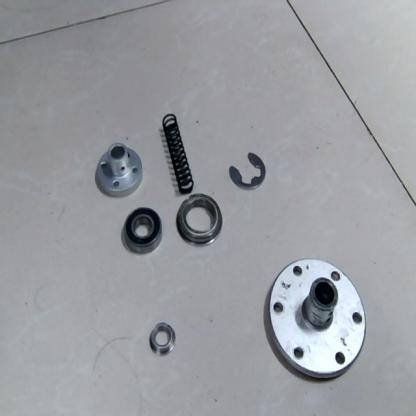FOD: (2, 19, 409, 411), (264, 252, 370, 384), (92, 140, 146, 201), (160, 109, 196, 196), (174, 191, 224, 247), (120, 204, 165, 256), (228, 146, 267, 192), (147, 322, 177, 358)
